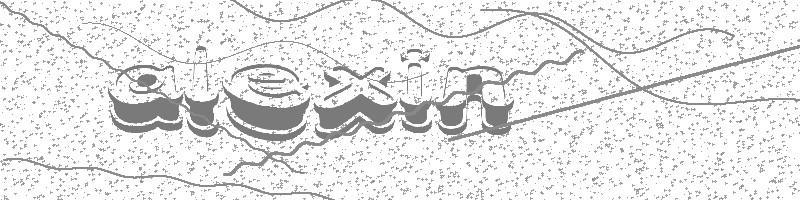a: (108, 60, 185, 133)
e: (220, 57, 315, 150)
i: (401, 42, 434, 139)
l: (183, 37, 224, 142)
n: (432, 56, 518, 144)
x: (315, 58, 400, 138)
